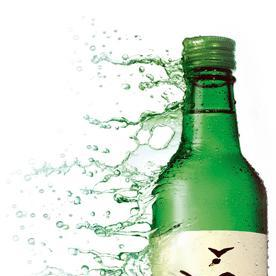soju: (148, 34, 271, 276)
